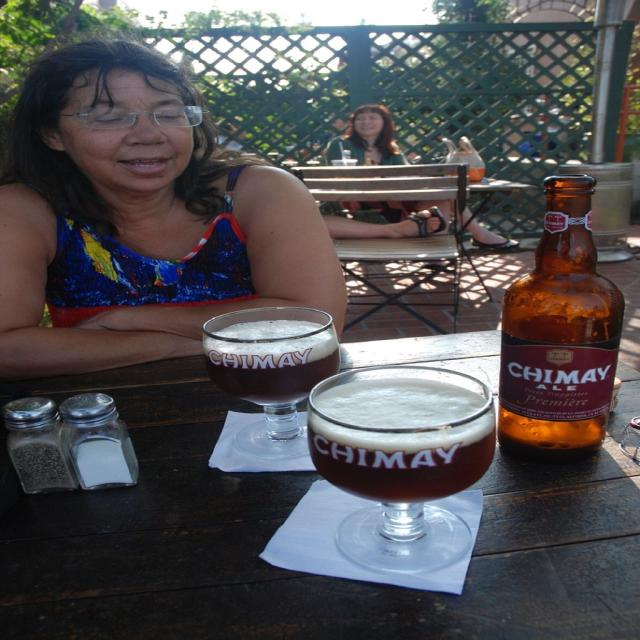chimay: (499, 344, 619, 423), (309, 432, 468, 474), (205, 344, 326, 372)
